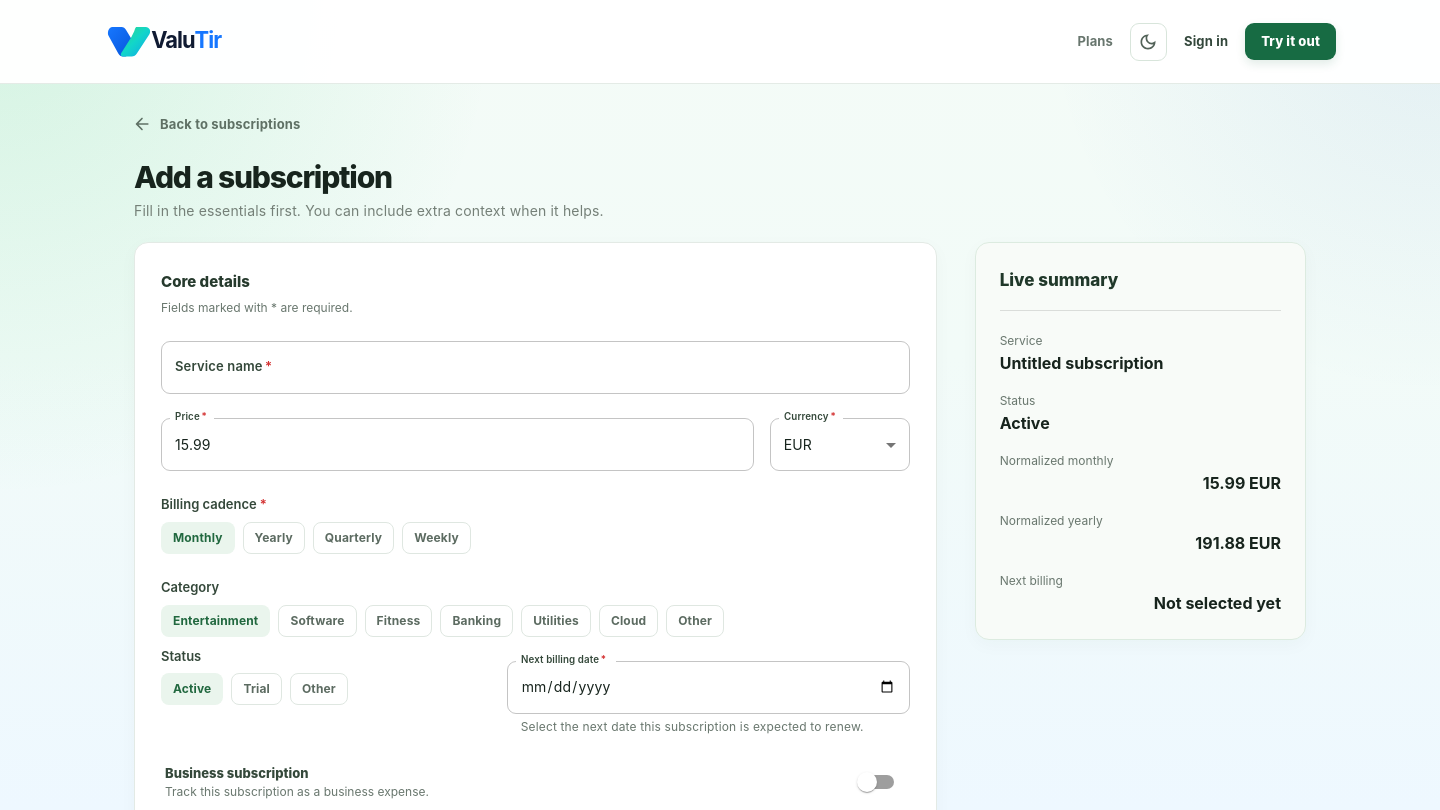
Scenario: AddSubscriptionPage › recalculates normalized values when billing cadence changes to yearly
Step 1. Click the button "Yearly" → [274, 538], box [243,522,305,554]
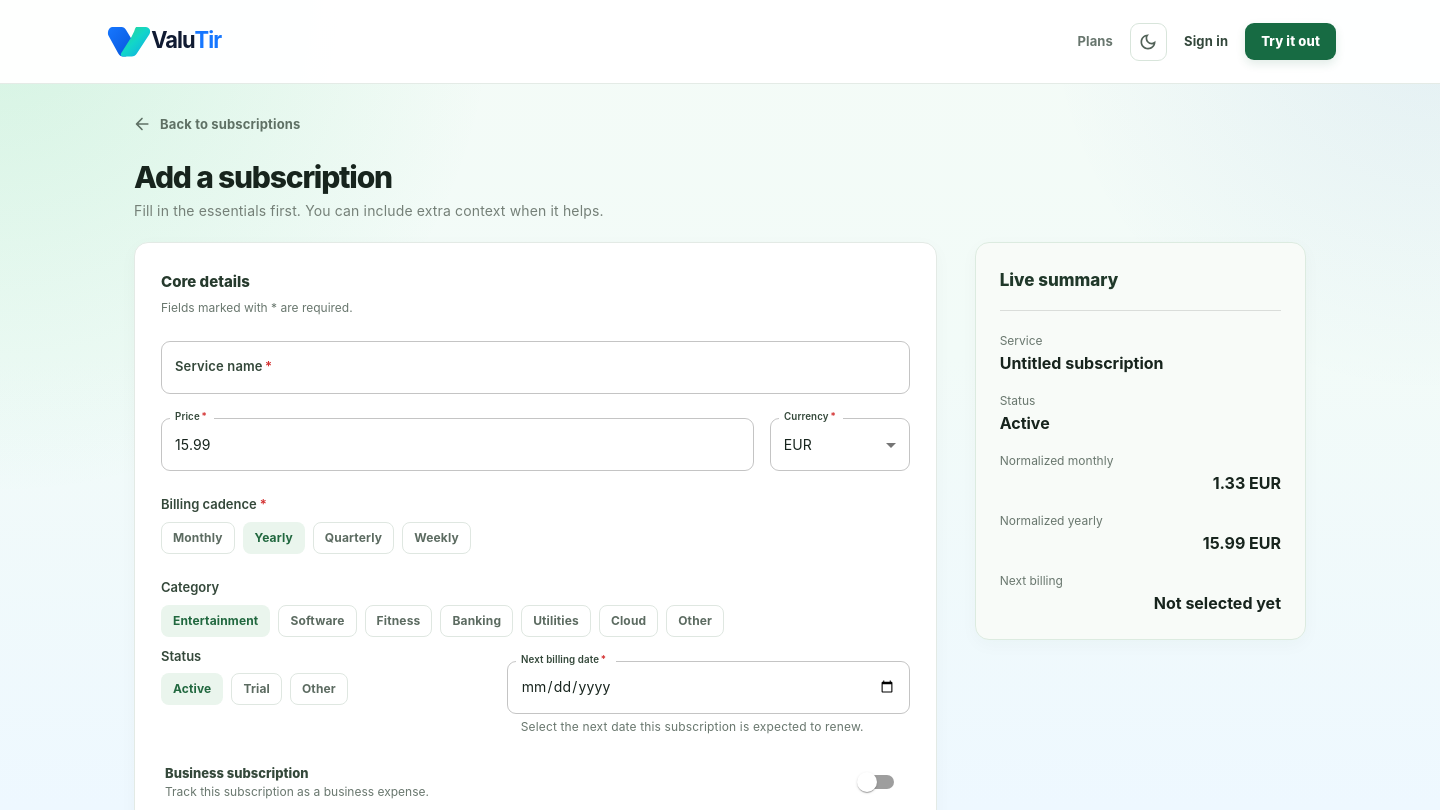
Expected: the text "Normalized yearly" is shown, [1000,513,1103,528]
Now the text "15.99 EUR" is shown, box [1203,533,1281,553]
Now the text "1.33 EUR" is shown, box [1213,473,1281,493]
